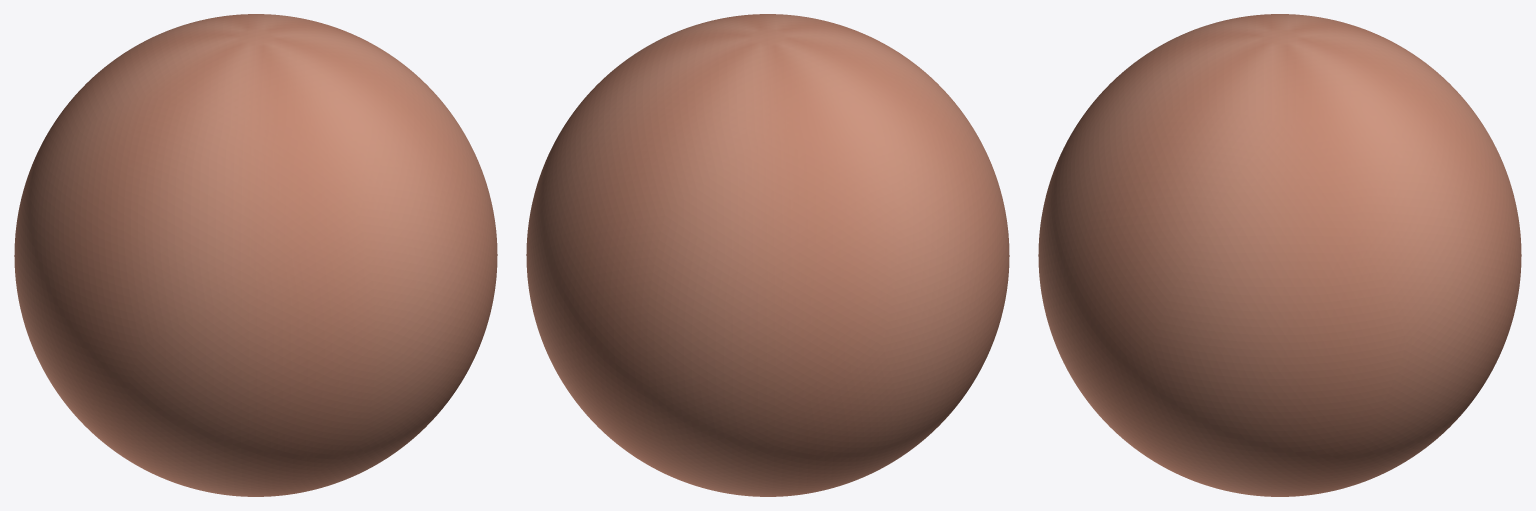
Rendered from mars_system_textured.glb.
3 views of the same model, side by side, from view 1: azimuth 30°, elevation 25°; view 2: azimuth 150°, elevation 25°; view 3: azimuth 270°, elevation 25° (orthographic).
Visible parts, largest first — view 1: Mars; view 2: Mars; view 3: Mars.
Boxes of the visible parts, x1,y1,x2,y2 form: Mars: [14, 14, 497, 496]; Mars: [526, 14, 1009, 496]; Mars: [1038, 14, 1521, 496].
Bounding box in the file's own units: 2 × 2 × 2.
